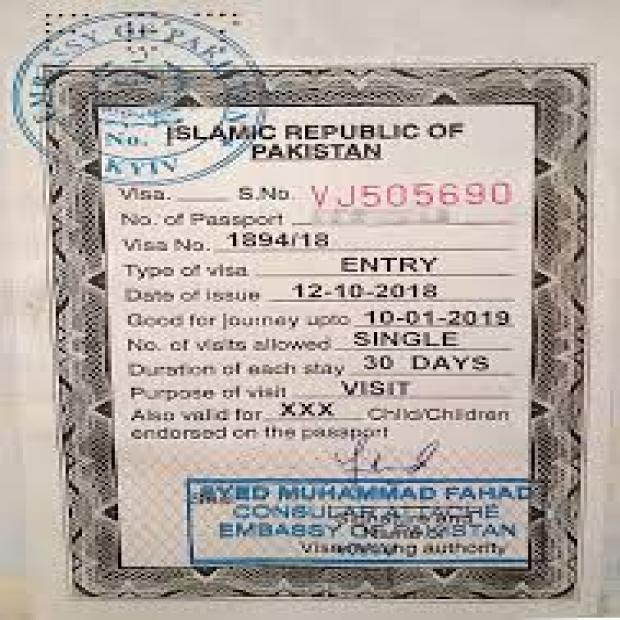Ink-stamps: (12, 2, 277, 188), (182, 476, 563, 575)
